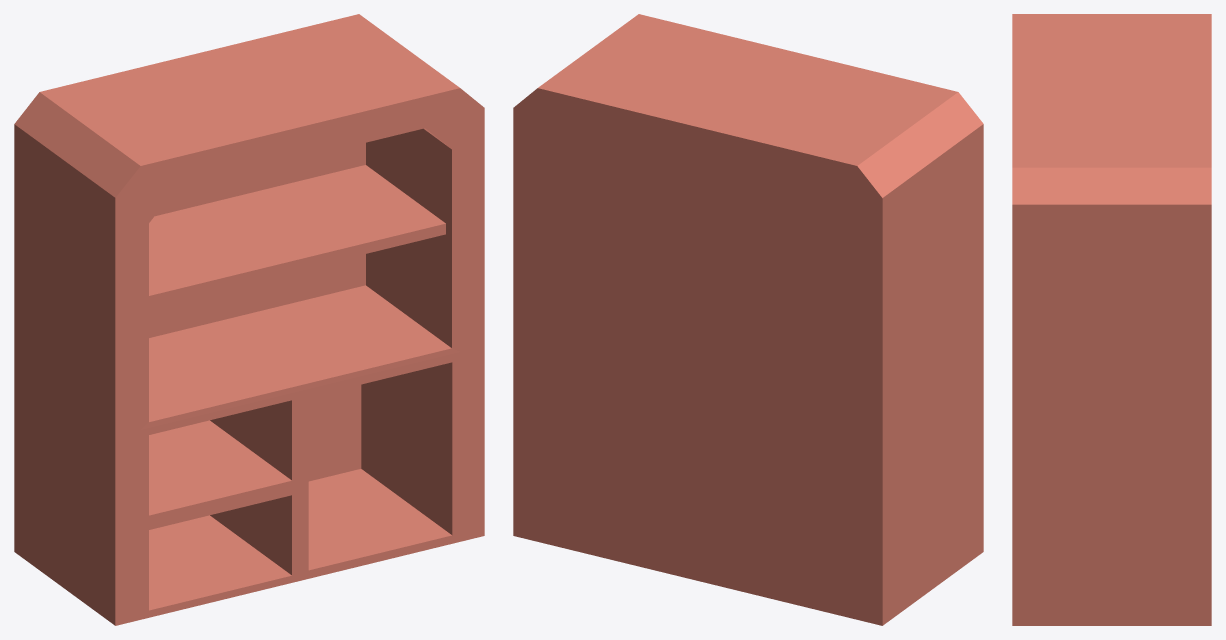
The model's file is EngineerRoom_BookCase.fbx.
3 renders of one model, left to right at view 1: azimuth 30°, elevation 25°; view 2: azimuth 150°, elevation 25°; view 3: azimuth 270°, elevation 25°, orthographic.
Visible parts, largest first — view 1: Bookshelf; view 2: Bookshelf; view 3: Bookshelf.
Part boxes in pixels (x1=…): Bookshelf: x1=14, y1=14, x2=484, y2=625; Bookshelf: x1=513, y1=14, x2=983, y2=625; Bookshelf: x1=1012, y1=14, x2=1211, y2=625.
Bounding box in the file's own units: 59.41 × 147 × 125.
